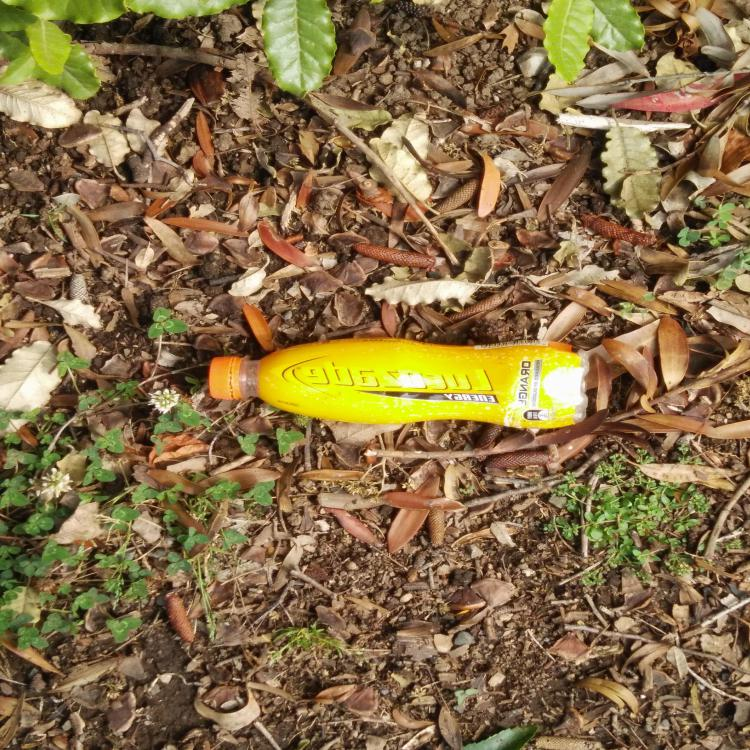Clear plastic bottle: (209, 337, 589, 429)
Plastic bottle cap: (209, 356, 234, 399)
